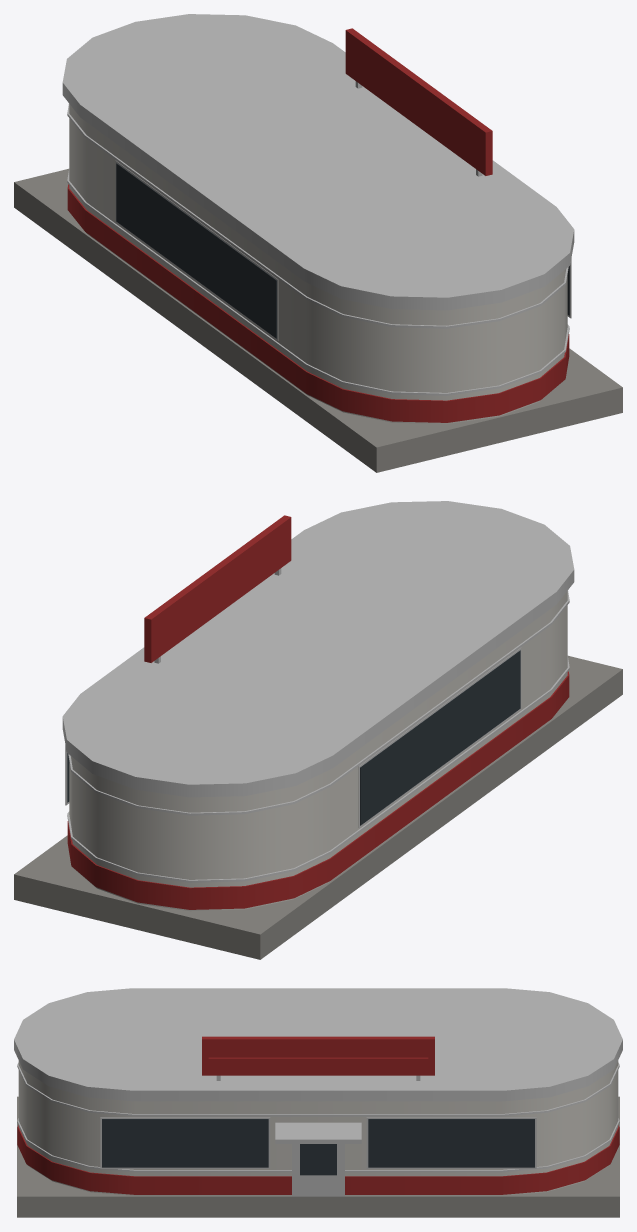
File: SM_Prop_cafe_building_16_LOD1.glb
3 renders of one model, top to bottom at view 1: azimuth 30°, elevation 25°; view 2: azimuth 150°, elevation 25°; view 3: azimuth 270°, elevation 25°, orthographic. The views are drawn at different scales.
Parts seen in each view (by area): view 1: SM_Prop_cafe_building_16_LOD1; view 2: SM_Prop_cafe_building_16_LOD1; view 3: SM_Prop_cafe_building_16_LOD1.
Boxes of the visible parts, <box> form: SM_Prop_cafe_building_16_LOD1: <box>14,14,622,472</box>; SM_Prop_cafe_building_16_LOD1: <box>14,501,622,959</box>; SM_Prop_cafe_building_16_LOD1: <box>14,988,622,1217</box>.
Size of the model in its own units: 8.34 by 5.65 by 18.28.
